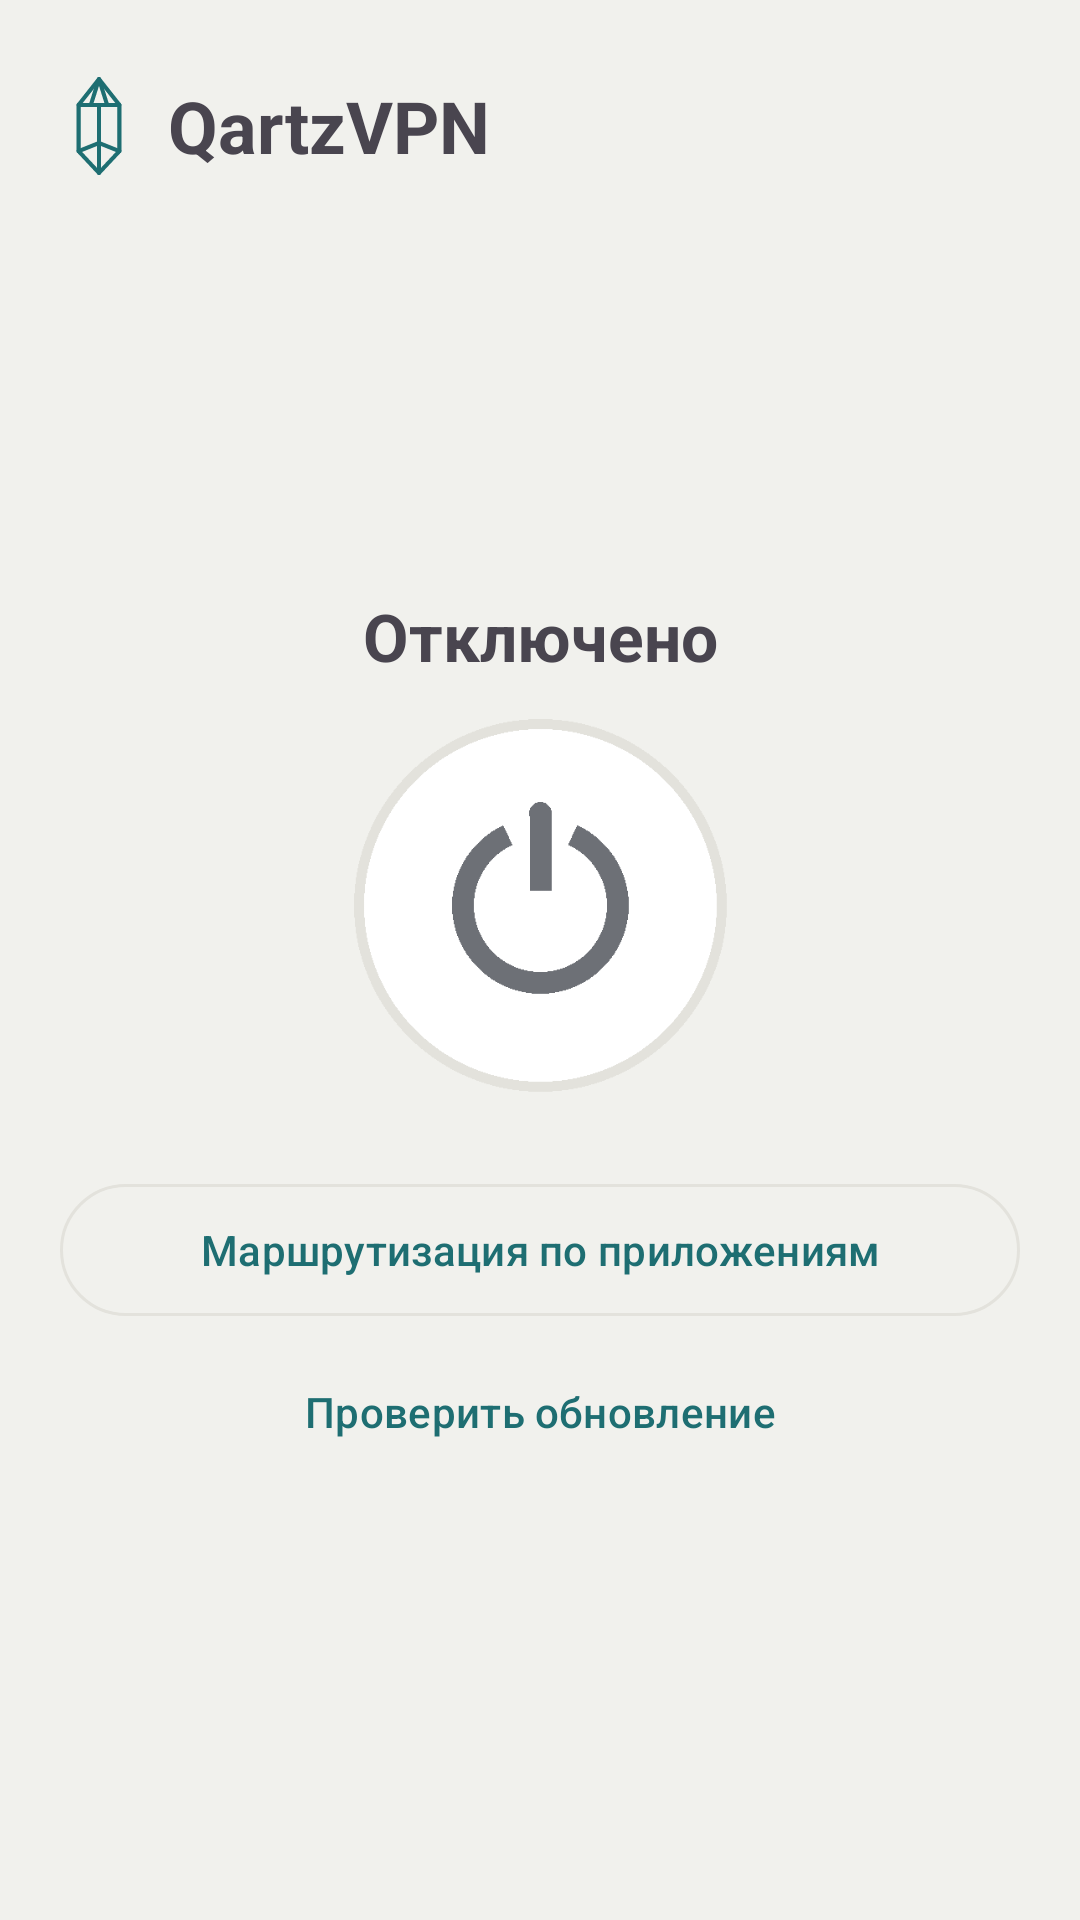

Locate icon controls on the screen. Image size 1080px×1920px, boxes as (x1, y1, x2, y2).
crystal: (76, 77, 122, 175)
